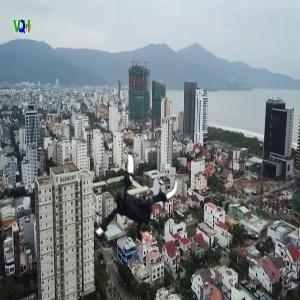drone: (78, 152, 187, 261)
